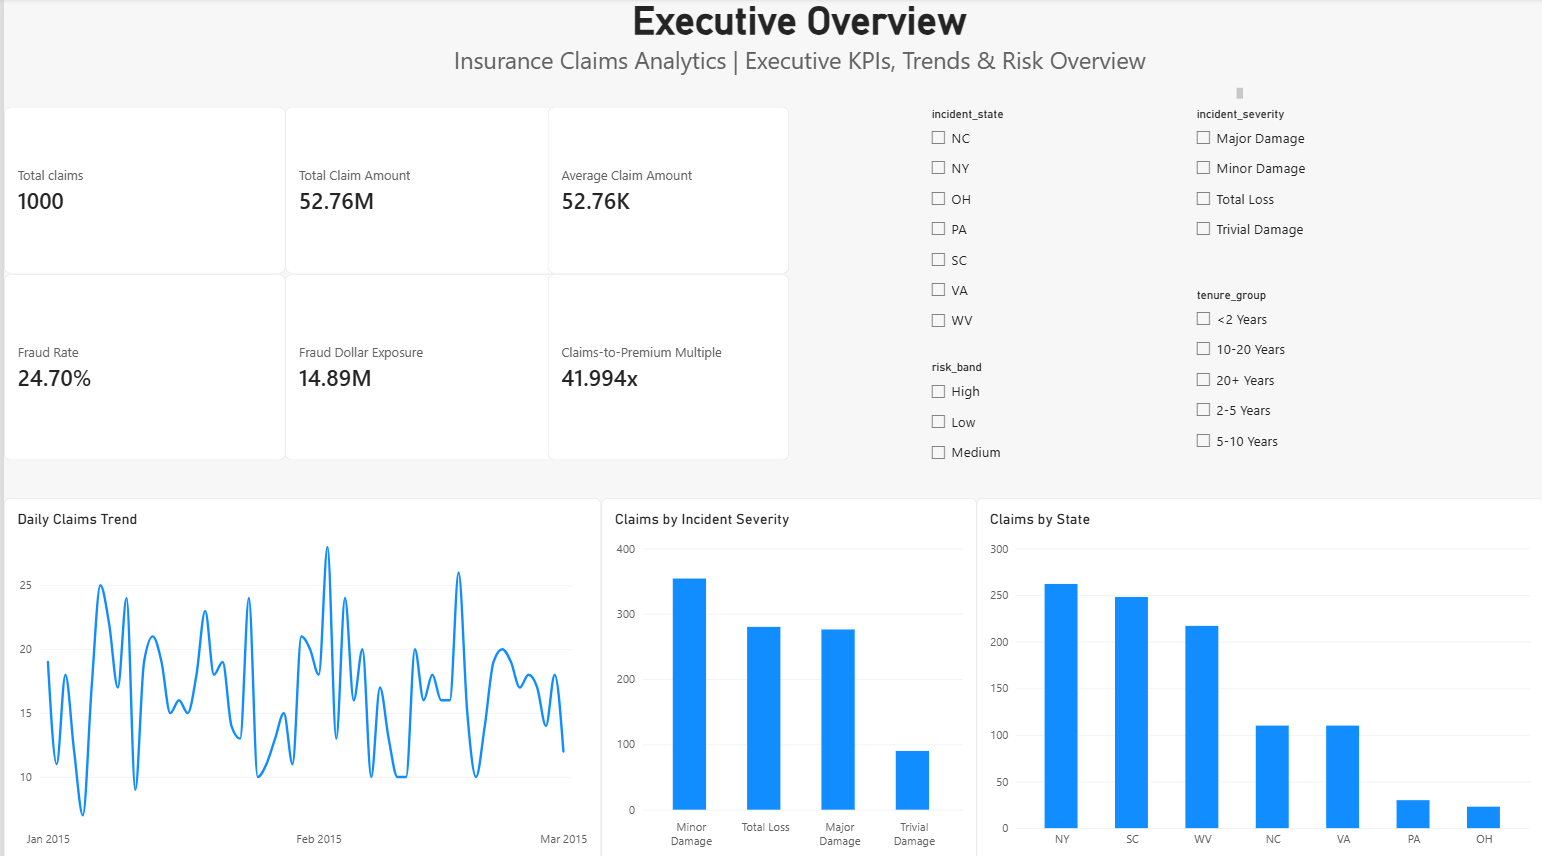

Layout of this report page (visuals, bound fields, positions):
{"tool":"powerbi","page":{"name":"executive overview","canvas":[1920,1080],"ordinal":0},"visuals":[{"type":"textbox","title":"Executive Overview","box":[439.9,0,1105.3,125.7],"z":10000},{"type":"cardVisual","fields":{"Data":["CountNonNull(fact_claims.claim_id)"]},"box":[0,134.9,351.2,208.9],"z":10001},{"type":"cardVisual","fields":{"Data":["Sum(fact_claims.total_claim_amount)"]},"box":[351.2,134.9,340.1,208.9],"z":10002},{"type":"cardVisual","fields":{"Data":["Avg(fact_claims.total_claim_amount)"]},"box":[678.1,135.6,301.3,208.9],"z":10003},{"type":"cardVisual","fields":{"Data":["dim_customer.Fraud Rate %"]},"box":[0,343.8,351.2,232.9],"z":10004},{"type":"cardVisual","fields":{"Data":["dim_customer.Fraud Dollar Exposure"]},"box":[351.2,343.8,340.1,232.9],"z":10005},{"type":"cardVisual","fields":{"Data":["dim_customer.Claims-to-Premium Multiple Display"]},"box":[678.1,344.5,301.3,232.9],"z":10006},{"type":"lineChart","title":"Daily Claims Trend","fields":{"Category":["dim_date.full_date"],"Y":["CountNonNull(fact_claims.claim_id)"]},"box":[0,622.9,744.9,456.5],"z":10007},{"type":"clusteredColumnChart","title":"Claims by Incident Severity","fields":{"Category":["dim_incident.incident_severity"],"Y":["CountNonNull(fact_claims.claim_id)"]},"box":[744.9,622.9,467.6,456.5],"z":10008},{"type":"clusteredColumnChart","title":"Claims by State","fields":{"Category":["dim_incident.incident_state"],"Y":["CountNonNull(fact_claims.claim_id)"]},"box":[1212.5,622.9,707.9,456.5],"z":10009},{"type":"slicer","fields":{"Values":["dim_incident.incident_state"]},"box":[1149.6,134.9,177.4,338.2],"z":10010},{"type":"slicer","fields":{"Values":["fraud_risk_score.risk_band"]},"box":[1149.6,452.8,170,170],"z":10011},{"type":"slicer","fields":{"Values":["dim_policy.tenure_group"]},"box":[1478.6,362.3,162.6,214.4],"z":10012},{"type":"slicer","fields":{"Values":["dim_incident.incident_severity"]},"box":[1478.6,134.9,188.5,175.6],"z":10013}]}

Visuals, with their boxes in screenshot pixels (x1, y1, x2, y2), scaled from the page's 1920x1080 canvas onto the 1542x856 screenshot:
"Executive Overview" textbox: [353, 0, 1241, 100]
cardVisual - CountNonNull(fact_claims.claim_id): [0, 107, 282, 272]
cardVisual - Sum(fact_claims.total_claim_amount): [282, 107, 555, 272]
cardVisual - Avg(fact_claims.total_claim_amount): [545, 107, 787, 273]
cardVisual - dim_customer.Fraud Rate %: [0, 272, 282, 457]
cardVisual - dim_customer.Fraud Dollar Exposure: [282, 272, 555, 457]
cardVisual - dim_customer.Claims-to-Premium Multiple Display: [545, 273, 787, 458]
"Daily Claims Trend" lineChart: [0, 494, 598, 855]
"Claims by Incident Severity" clusteredColumnChart: [598, 494, 974, 855]
"Claims by State" clusteredColumnChart: [974, 494, 1541, 855]
slicer - dim_incident.incident_state: [923, 107, 1066, 375]
slicer - fraud_risk_score.risk_band: [923, 359, 1060, 494]
slicer - dim_policy.tenure_group: [1188, 287, 1318, 457]
slicer - dim_incident.incident_severity: [1188, 107, 1339, 246]
